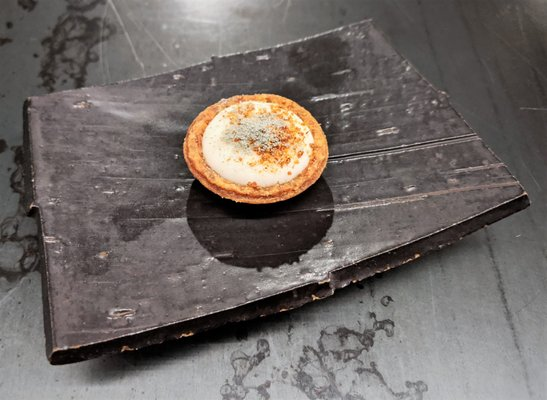sushi: (182, 93, 330, 202)
